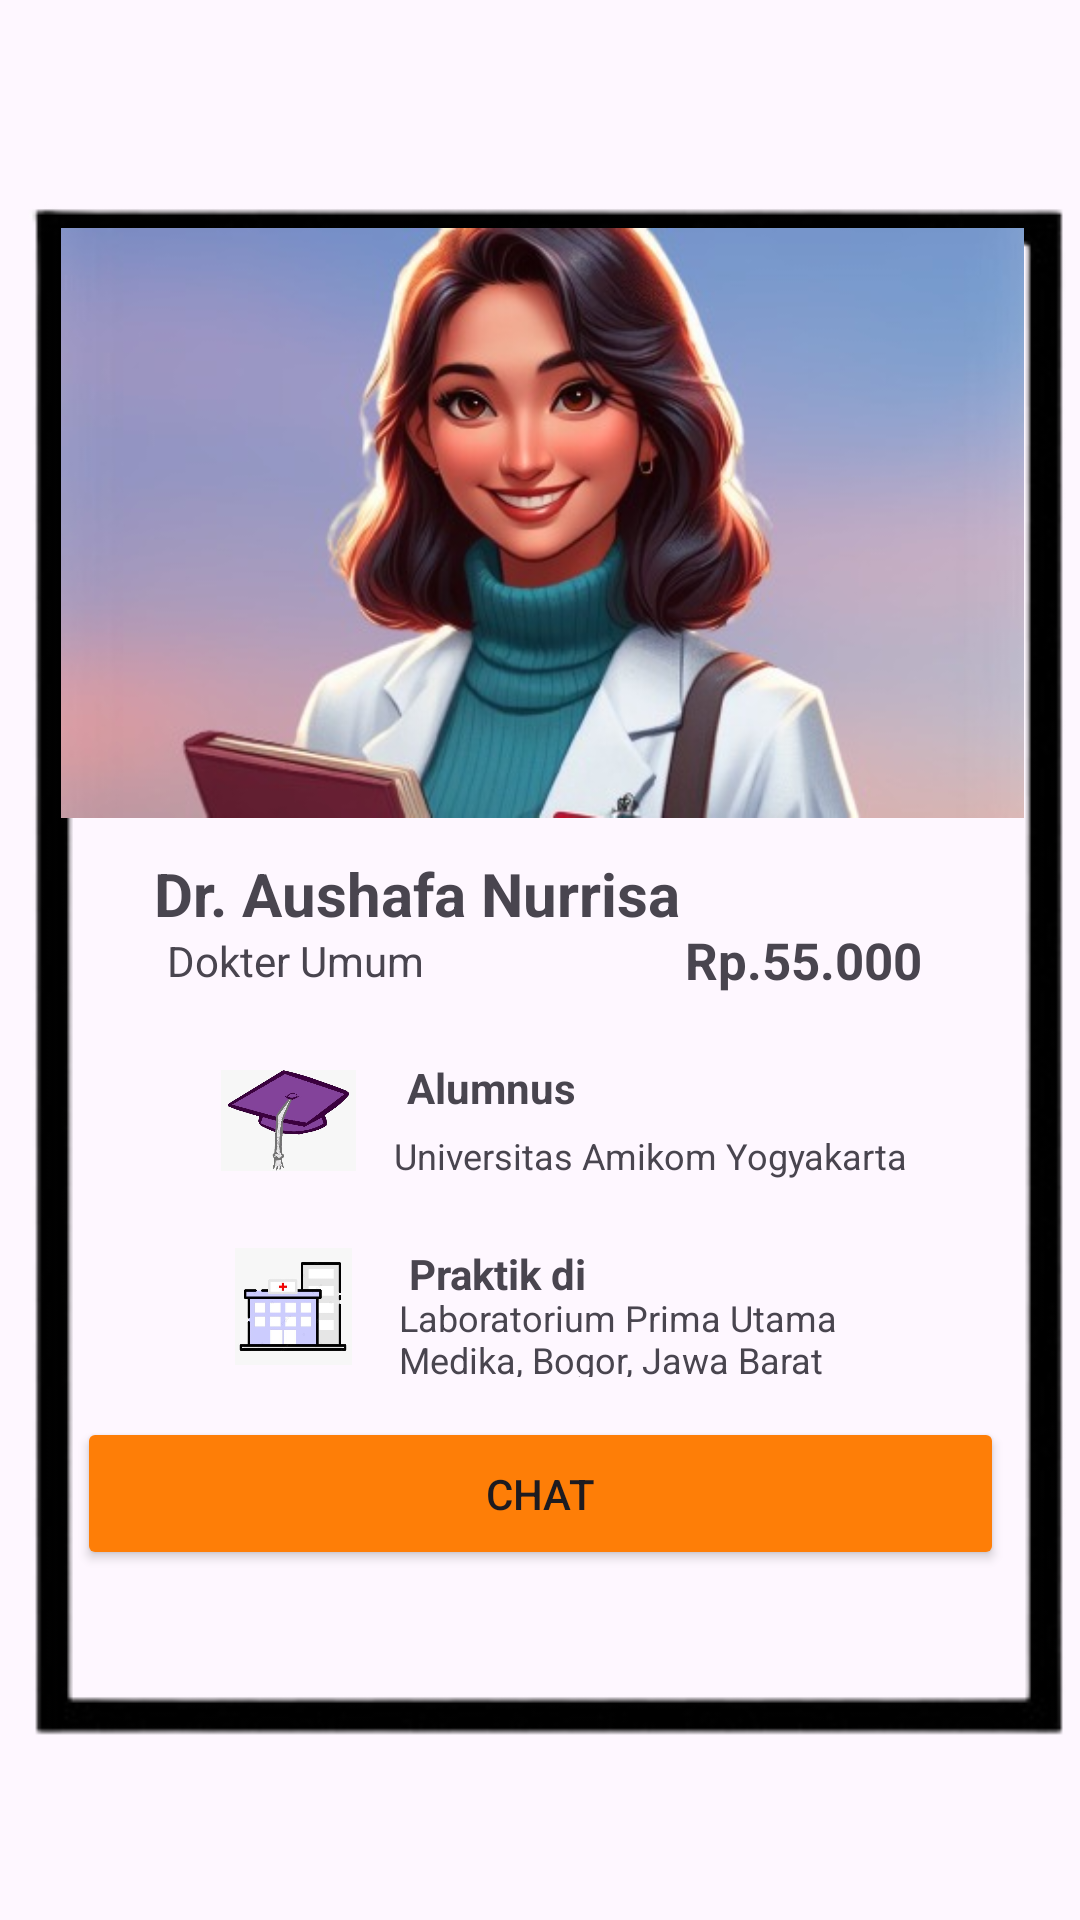

Point at icon controls on the screen. Image size 1080×1920, points as point (x, y).
rumahsakit: point (293, 1306)
toga: point (288, 1120)
